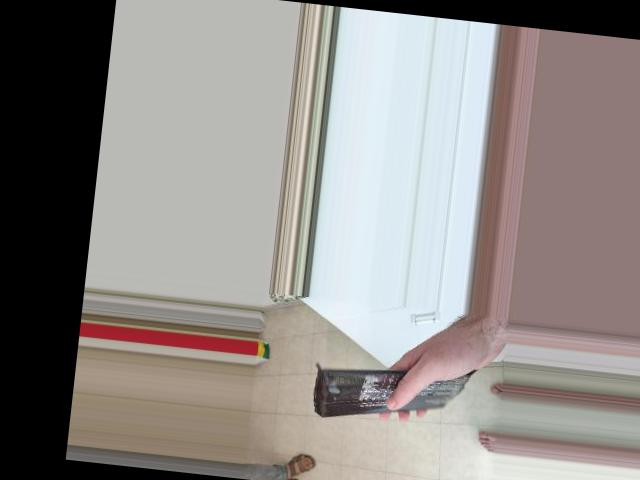chocolate: (310, 353, 484, 433)
